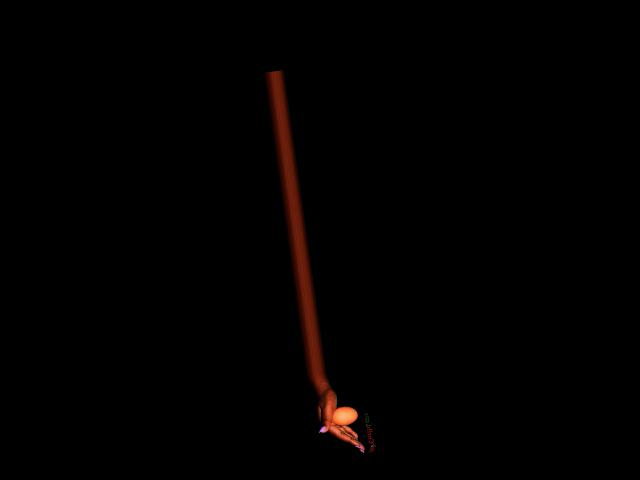egg: (331, 404, 359, 427)
